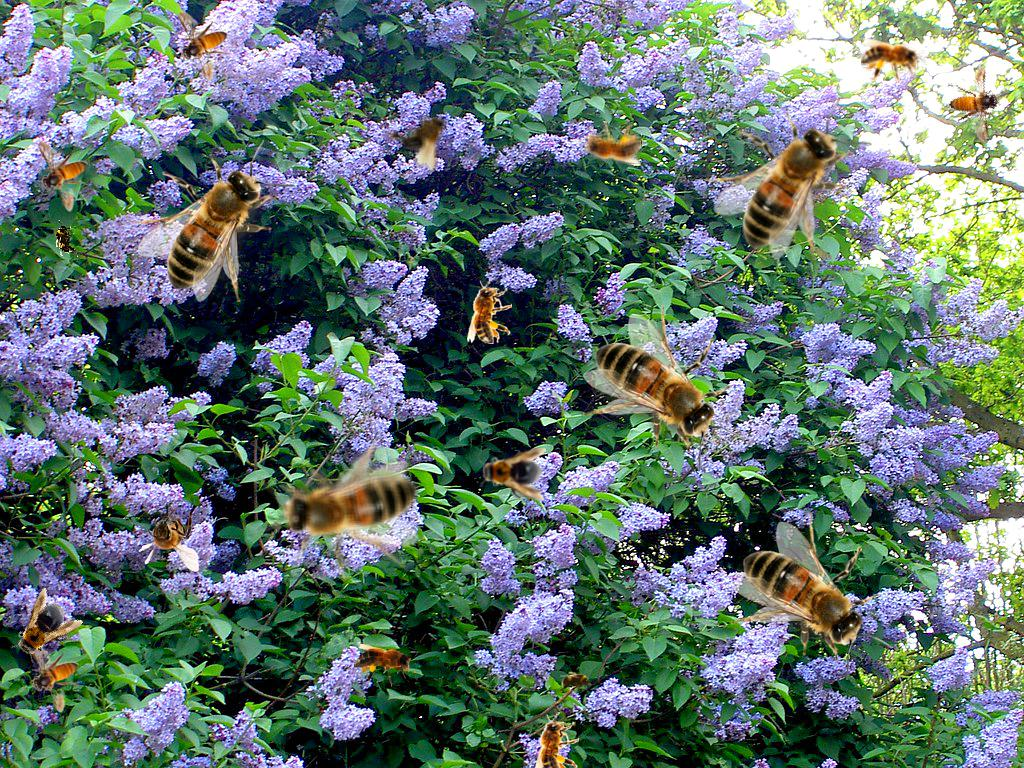Bee: (227, 394, 460, 628), (731, 513, 893, 680), (583, 305, 745, 472), (129, 140, 296, 302), (705, 98, 872, 260), (1, 587, 85, 673), (381, 95, 464, 175), (939, 59, 1013, 144), (138, 502, 199, 572), (38, 141, 88, 212), (178, 11, 228, 82), (29, 642, 79, 713), (478, 448, 546, 500), (861, 38, 927, 83), (577, 121, 643, 166), (354, 642, 420, 687), (467, 278, 512, 344), (534, 712, 579, 768), (51, 217, 79, 261), (556, 671, 596, 693)
